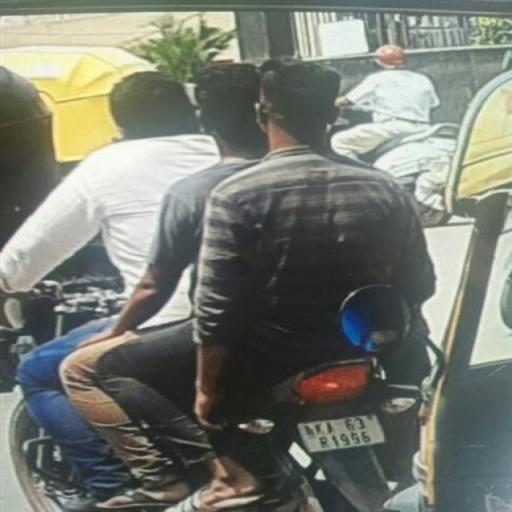tripple riding: (4, 56, 458, 478)
